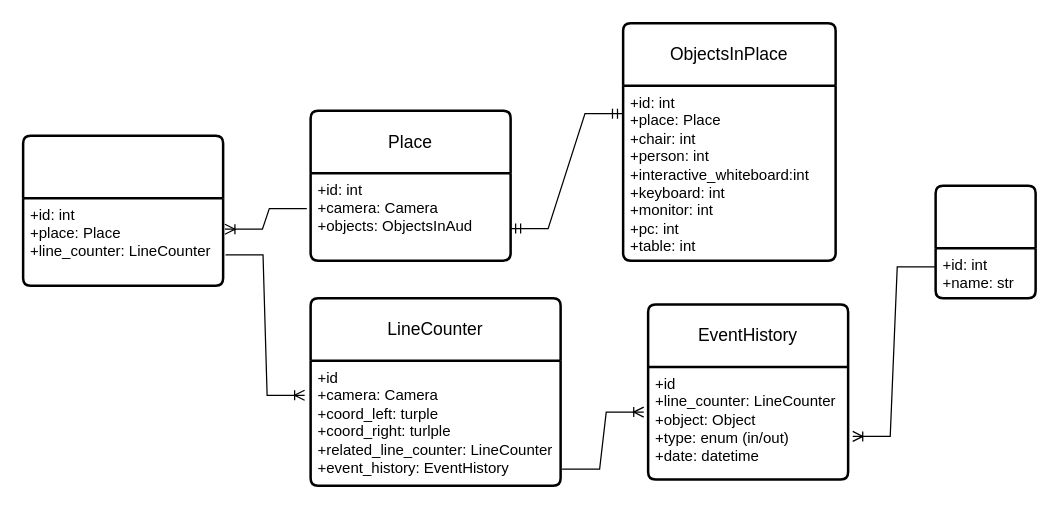
Some shapes in this 1058 by 508 pixel diagram are drawn without their labels. The shapes that lost their labels are listed below. From the top down, each one's box as (x1, y1, x2, y2) in pixels, then its label:
(21, 134, 224, 286): Camera
(934, 184, 1036, 299): Object
